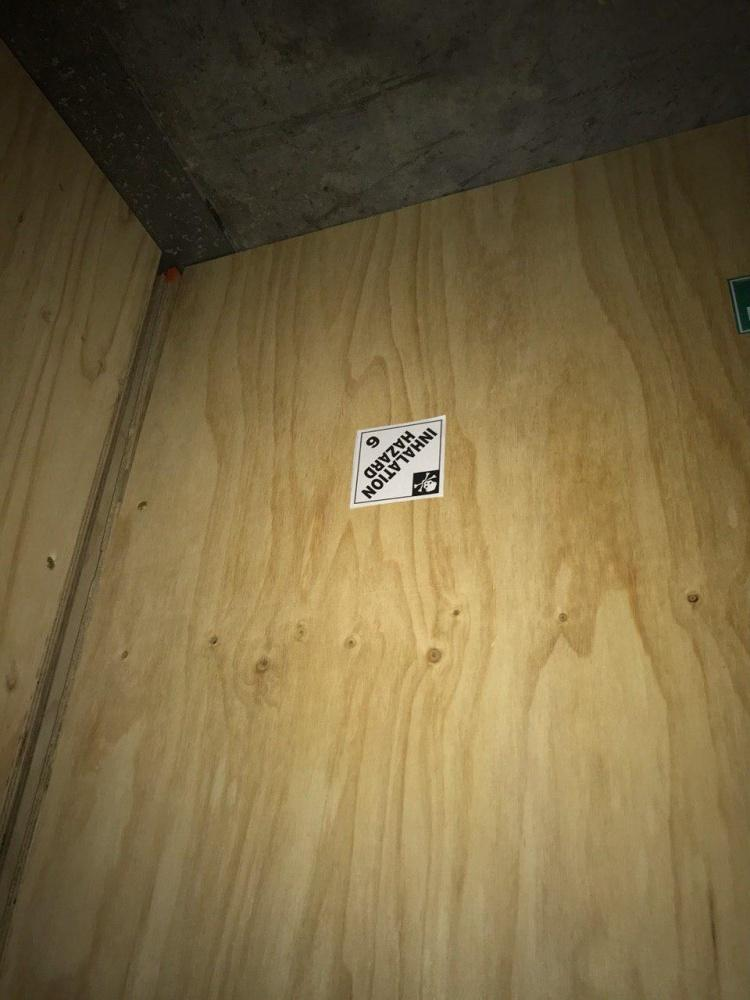poison: (350, 416, 447, 512)
